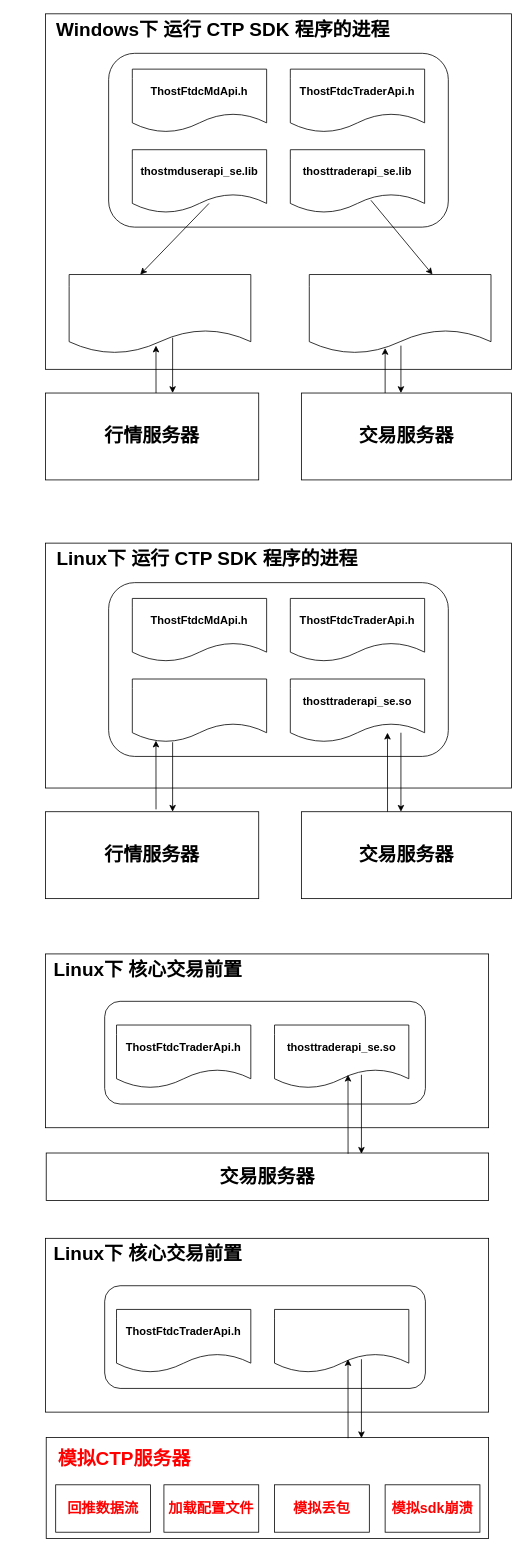
This 525x1552 diagram has some shape labels left out. Each missing label, with the centre of its shape:
thostmduserapi_se.dll: [159,314]
thostmduserapi_se.so: [199,710]
thosttraderapi_se.dll: [399,314]
模拟thosttraderapi_se.so: [341,1341]
